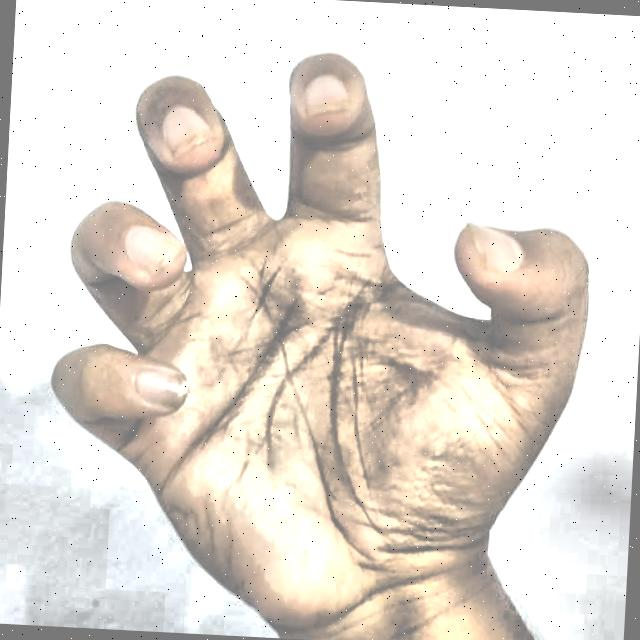Ja: (20, 6, 615, 640)
